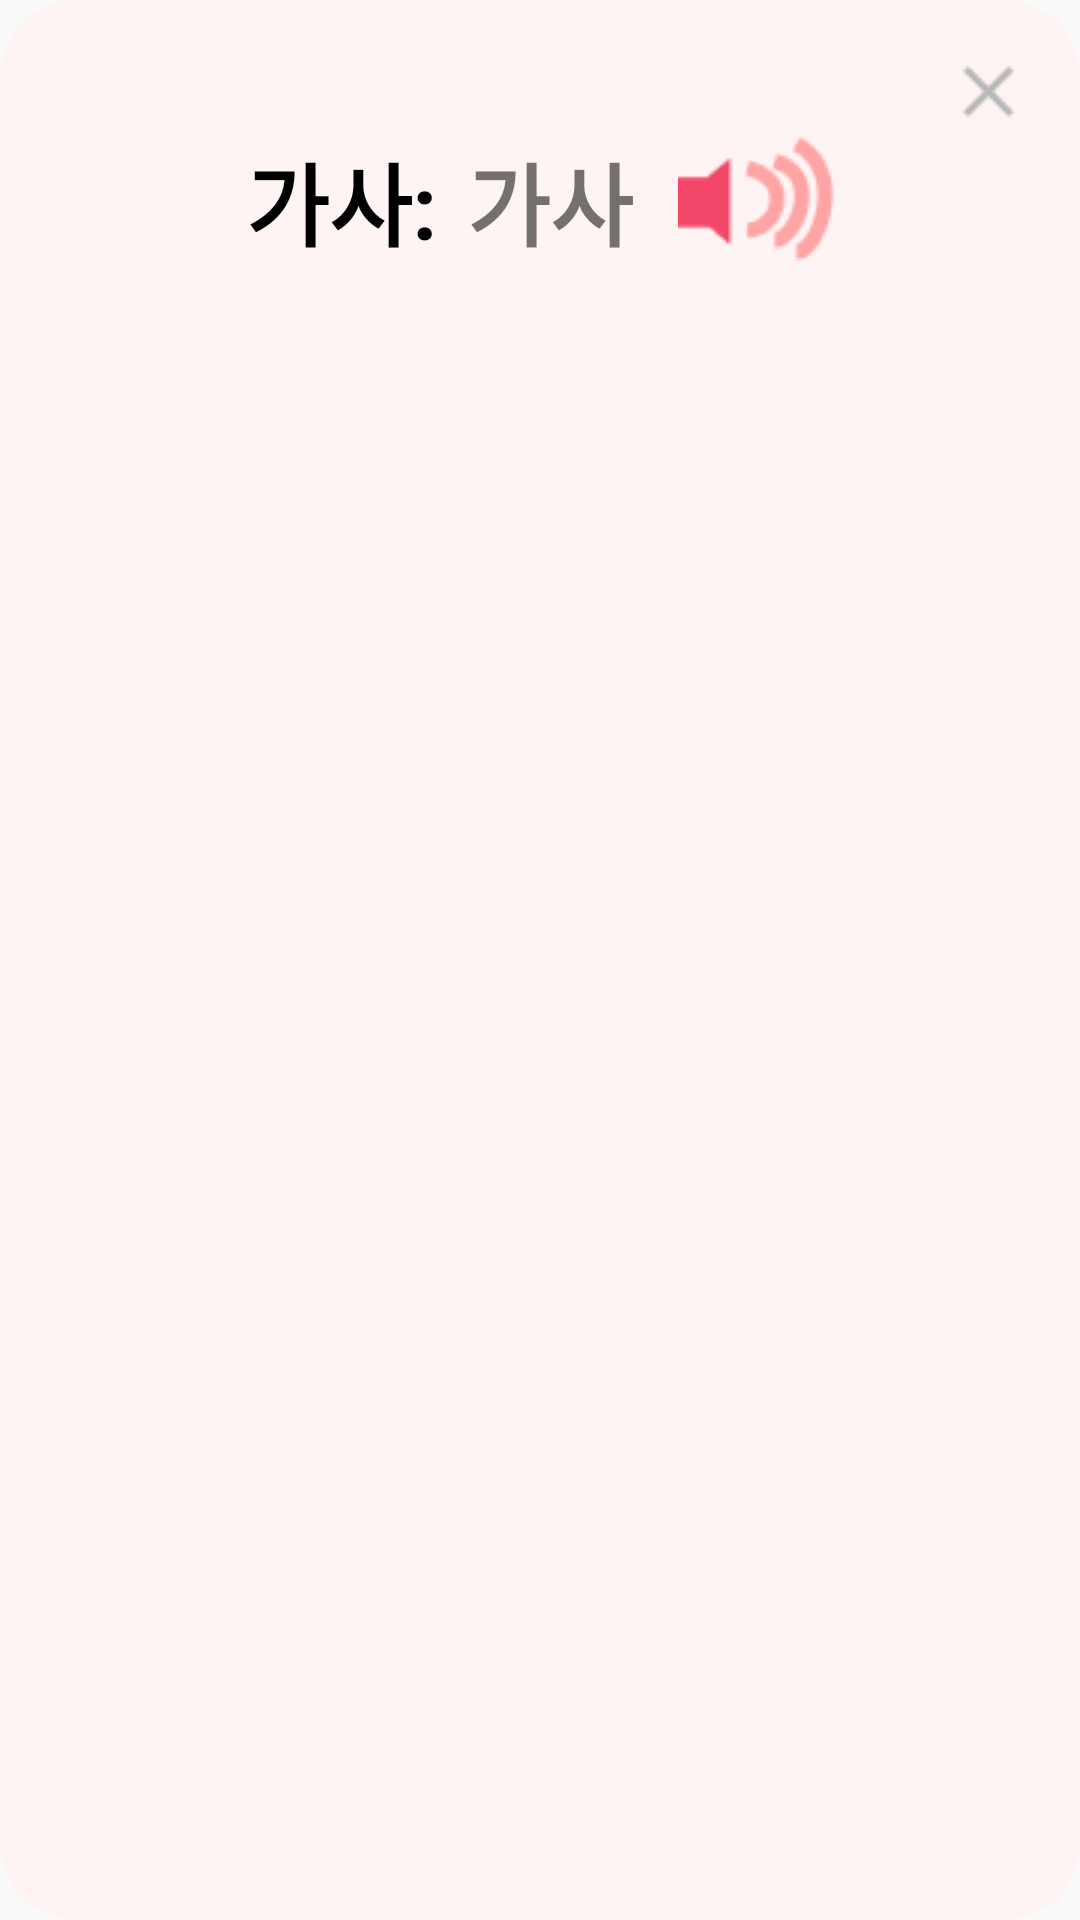

Icon click points for this 1080px×1920px phone screenshot, format [x,y]:
pronunciation close: [988,91]
romaza speaker: [756,199]
